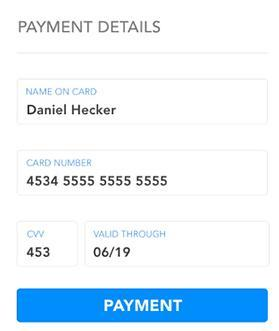button: (17, 288, 271, 324)
input: (17, 77, 271, 127), (16, 149, 270, 198), (85, 219, 272, 269), (16, 220, 81, 269)
label: (17, 18, 165, 38)
